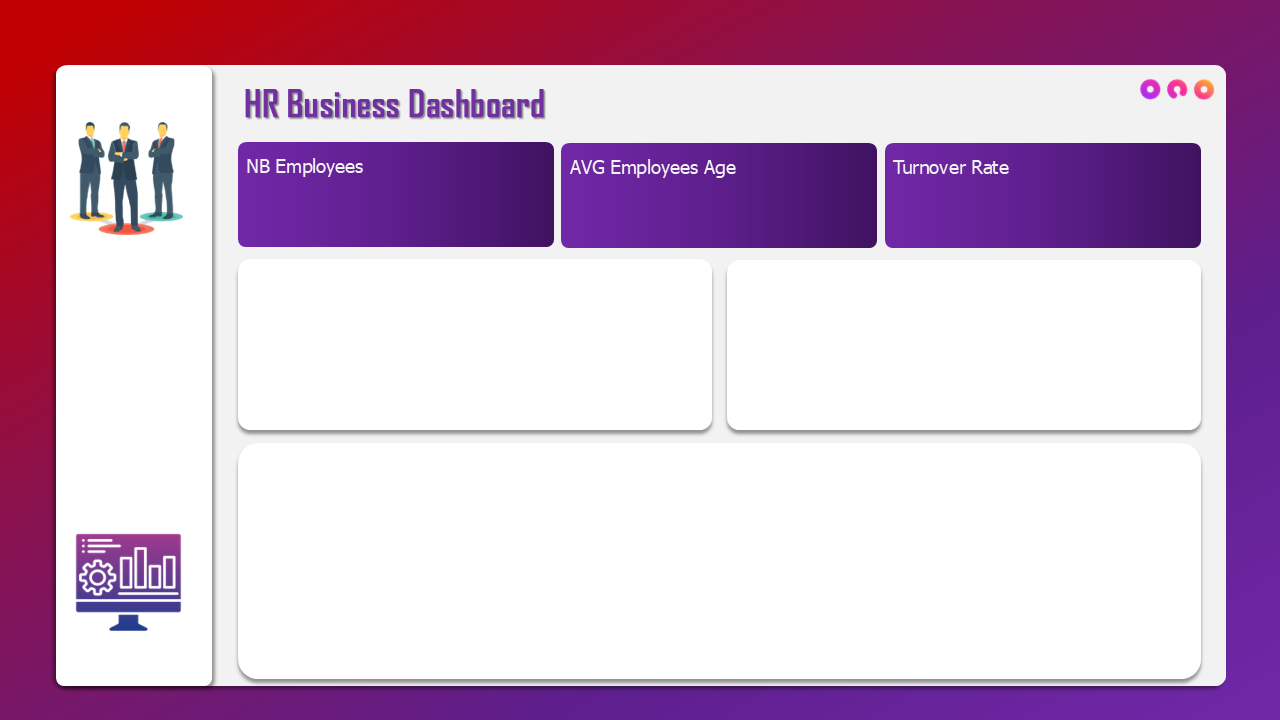

What the dashboard file says about the page in this screenshot:
{"tool":"powerbi","page":{"name":"Page 1","canvas":[1920,1080],"ordinal":0},"visuals":[{"type":"card","fields":{"Values":["Sum(01 KPI TOTAL NUMBER OF ACTIVE EMPLOYEES.total_active_employees)"]},"box":[370.5,251.1,193.5,109.1],"z":0},{"type":"card","fields":{"Values":["Sum(03 KPI AVERAGE AGE OF WORKFORCE.avg_age_employees)"]},"box":[827.4,251.1,193.5,109.1],"z":1000},{"type":"card","fields":{"Values":["Sum(04 KPI TURNOVER RATE.turnover_rate)"]},"box":[1325.6,251.1,193.5,109.1],"z":2000},{"type":"multiRowCard","fields":{"Values":["02 KPI GENDER DISTRIBUTION OF ACTIVE EMPLOYEES.gender","Sum(02 KPI GENDER DISTRIBUTION OF ACTIVE EMPLOYEES.gender_distribution)"]},"box":[98.8,393.1,214.1,327.3],"z":3000},{"type":"donutChart","title":"Age Group Distribution ","fields":{"Category":["Barchart Employee Distribution by Age Groups.group_age"],"Y":["Sum(Barchart Employee Distribution by Age Groups.Group_Count)"]},"box":[1115.6,393.1,666.9,220.2],"z":4000},{"type":"donutChart","title":"Employees Distribution by the Location","fields":{"Category":["Pie chart Work Location Breakdown.location"],"Y":["Sum(Pie chart Work Location Breakdown.COUNT(*))"]},"box":[370.5,393.1,683.4,220.2],"z":5000},{"type":"clusteredColumnChart","title":"Employees Distribution by the Department","fields":{"Category":["Stucked column Department Headcount.department"],"Y":["Sum(Stucked column Department Headcount.distribution)"]},"box":[370.5,669,1430.5,337.6],"z":6000},{"type":"image","box":[1626.1,230.5,117.3,119.4],"z":7000},{"type":"image","box":[654.5,240.8,117.3,119.4],"z":8000},{"type":"image","box":[1134.1,230.5,117.3,119.4],"z":9000}]}

Visuals, with their boxes on the page's 1920x1080 design canvas (x1, y1, x2, y2). These are canvas units, not pixel positions in the 1280x720 screenshot, which may show the page scaled, cropped or inside an application window:
card - Sum(01 KPI TOTAL NUMBER OF ACTIVE EMPLOYEES.total_active_employees): bbox=[370, 251, 564, 360]
card - Sum(03 KPI AVERAGE AGE OF WORKFORCE.avg_age_employees): bbox=[827, 251, 1021, 360]
card - Sum(04 KPI TURNOVER RATE.turnover_rate): bbox=[1326, 251, 1519, 360]
multiRowCard - 02 KPI GENDER DISTRIBUTION OF ACTIVE EMPLOYEES.gender x Sum(02 KPI GENDER DISTRIBUTION OF ACTIVE EMPLOYEES.gender_distribution): bbox=[99, 393, 313, 720]
"Age Group Distribution " donutChart: bbox=[1116, 393, 1782, 613]
"Employees Distribution by the Location" donutChart: bbox=[370, 393, 1054, 613]
"Employees Distribution by the Department" clusteredColumnChart: bbox=[370, 669, 1801, 1007]
image: bbox=[1626, 230, 1743, 350]
image: bbox=[654, 241, 772, 360]
image: bbox=[1134, 230, 1251, 350]
